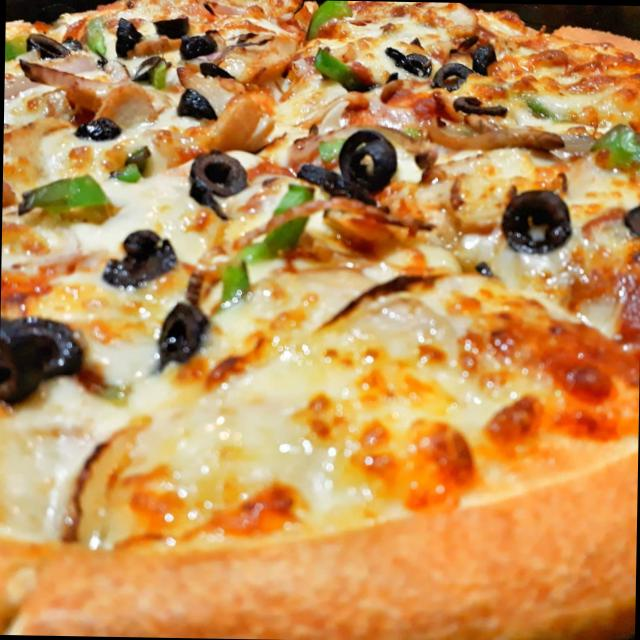black_olives: (0, 313, 79, 406), (499, 184, 572, 256), (106, 226, 175, 288), (338, 126, 396, 196), (188, 146, 246, 197), (158, 304, 204, 366), (176, 30, 217, 64), (382, 49, 430, 77), (174, 90, 214, 122), (434, 64, 470, 98), (461, 94, 504, 120), (28, 32, 64, 62), (467, 42, 498, 75), (78, 114, 120, 138), (115, 18, 142, 52), (156, 16, 192, 38)
mushrooms: (56, 408, 152, 547), (431, 118, 569, 158), (325, 202, 397, 260)
peppers: (242, 179, 311, 265), (12, 168, 110, 225), (302, 2, 349, 48), (591, 120, 638, 166), (314, 46, 358, 94), (211, 254, 251, 305), (122, 156, 150, 188), (85, 20, 106, 58)
pizza: (0, 0, 640, 640)
